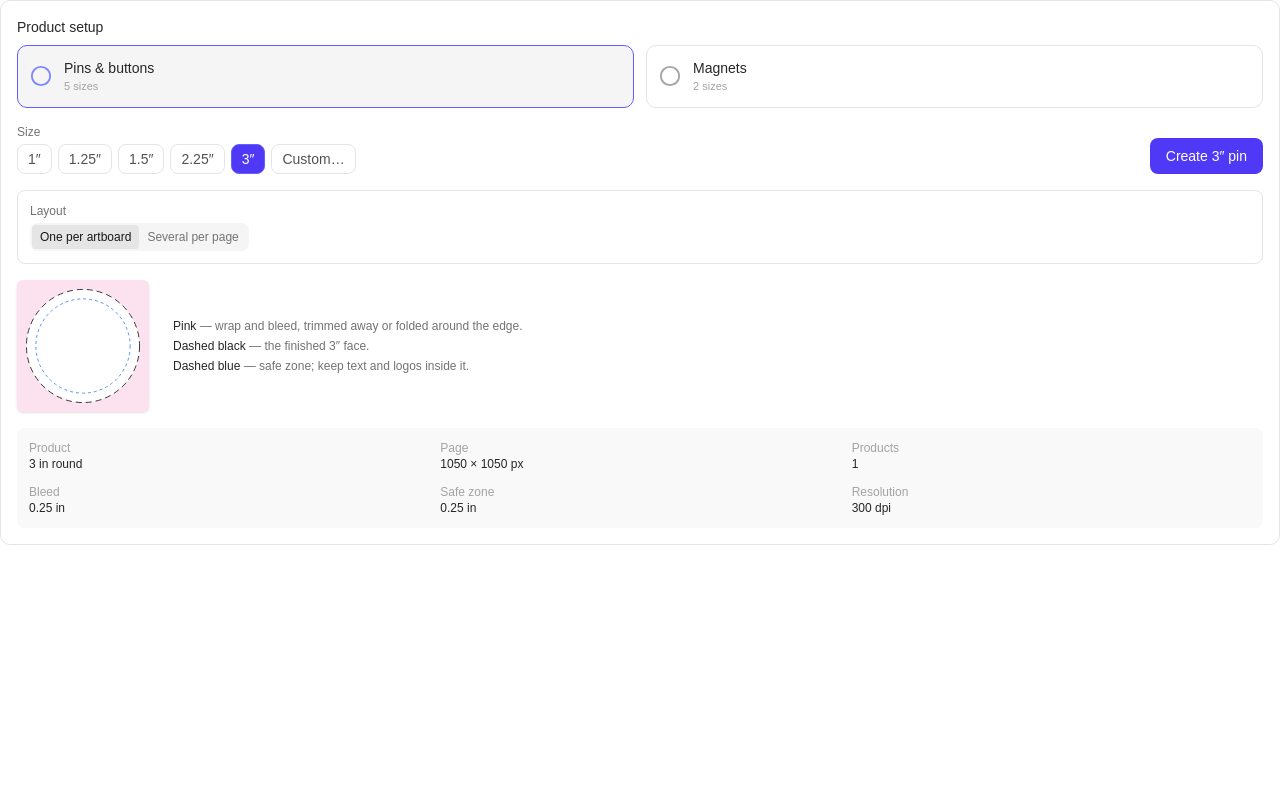
Test case: ProductSetupPanel (PROD-001) › switching category lands on that category’s first size rather than an id it no longer has
This screenshot has width=1280, height=800.
Step 1. Click the text "Magnets" → (720, 68), box [693,58,747,78]
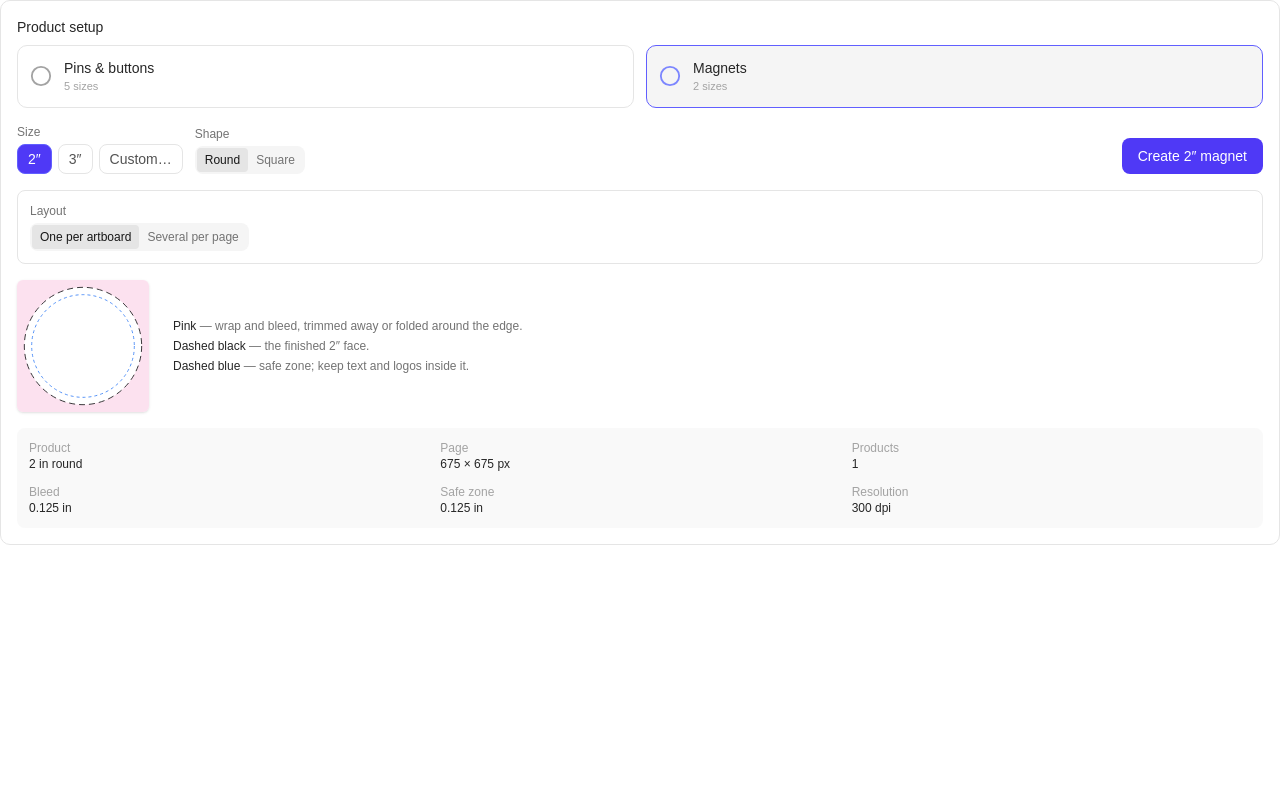
expect the button "Create 2″ magnet" is shown: met, box [1122,138,1263,174]
